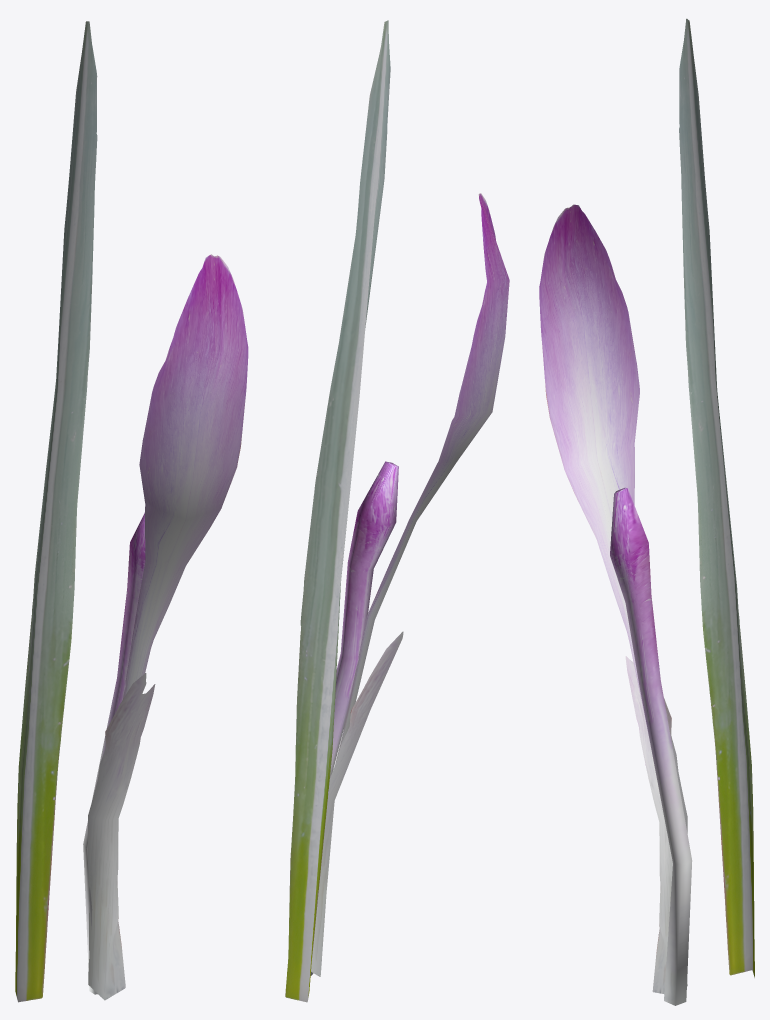
File: flower_crocus_lod2.glb
The picture shows the model from 3 angles, left to right: view 1: azimuth 90°, elevation 25°; view 2: azimuth 150°, elevation 25°; view 3: azimuth 270°, elevation 25°; orthographic projection. The views are drawn at different scales.
Parts seen in each view (by area): view 1: bq_Flower_Crocus-vernus_B_spring-summer; view 2: bq_Flower_Crocus-vernus_B_spring-summer; view 3: bq_Flower_Crocus-vernus_B_spring-summer.
Part boxes in pixels (<box>): bq_Flower_Crocus-vernus_B_spring-summer: <box>15,21,248,1002</box>; bq_Flower_Crocus-vernus_B_spring-summer: <box>285,20,509,1002</box>; bq_Flower_Crocus-vernus_B_spring-summer: <box>539,18,754,1005</box>.
Bounding box in the file's own units: 0.0167 × 0.0972 × 0.0202.
Materials: 2 (2 with a texture image).
